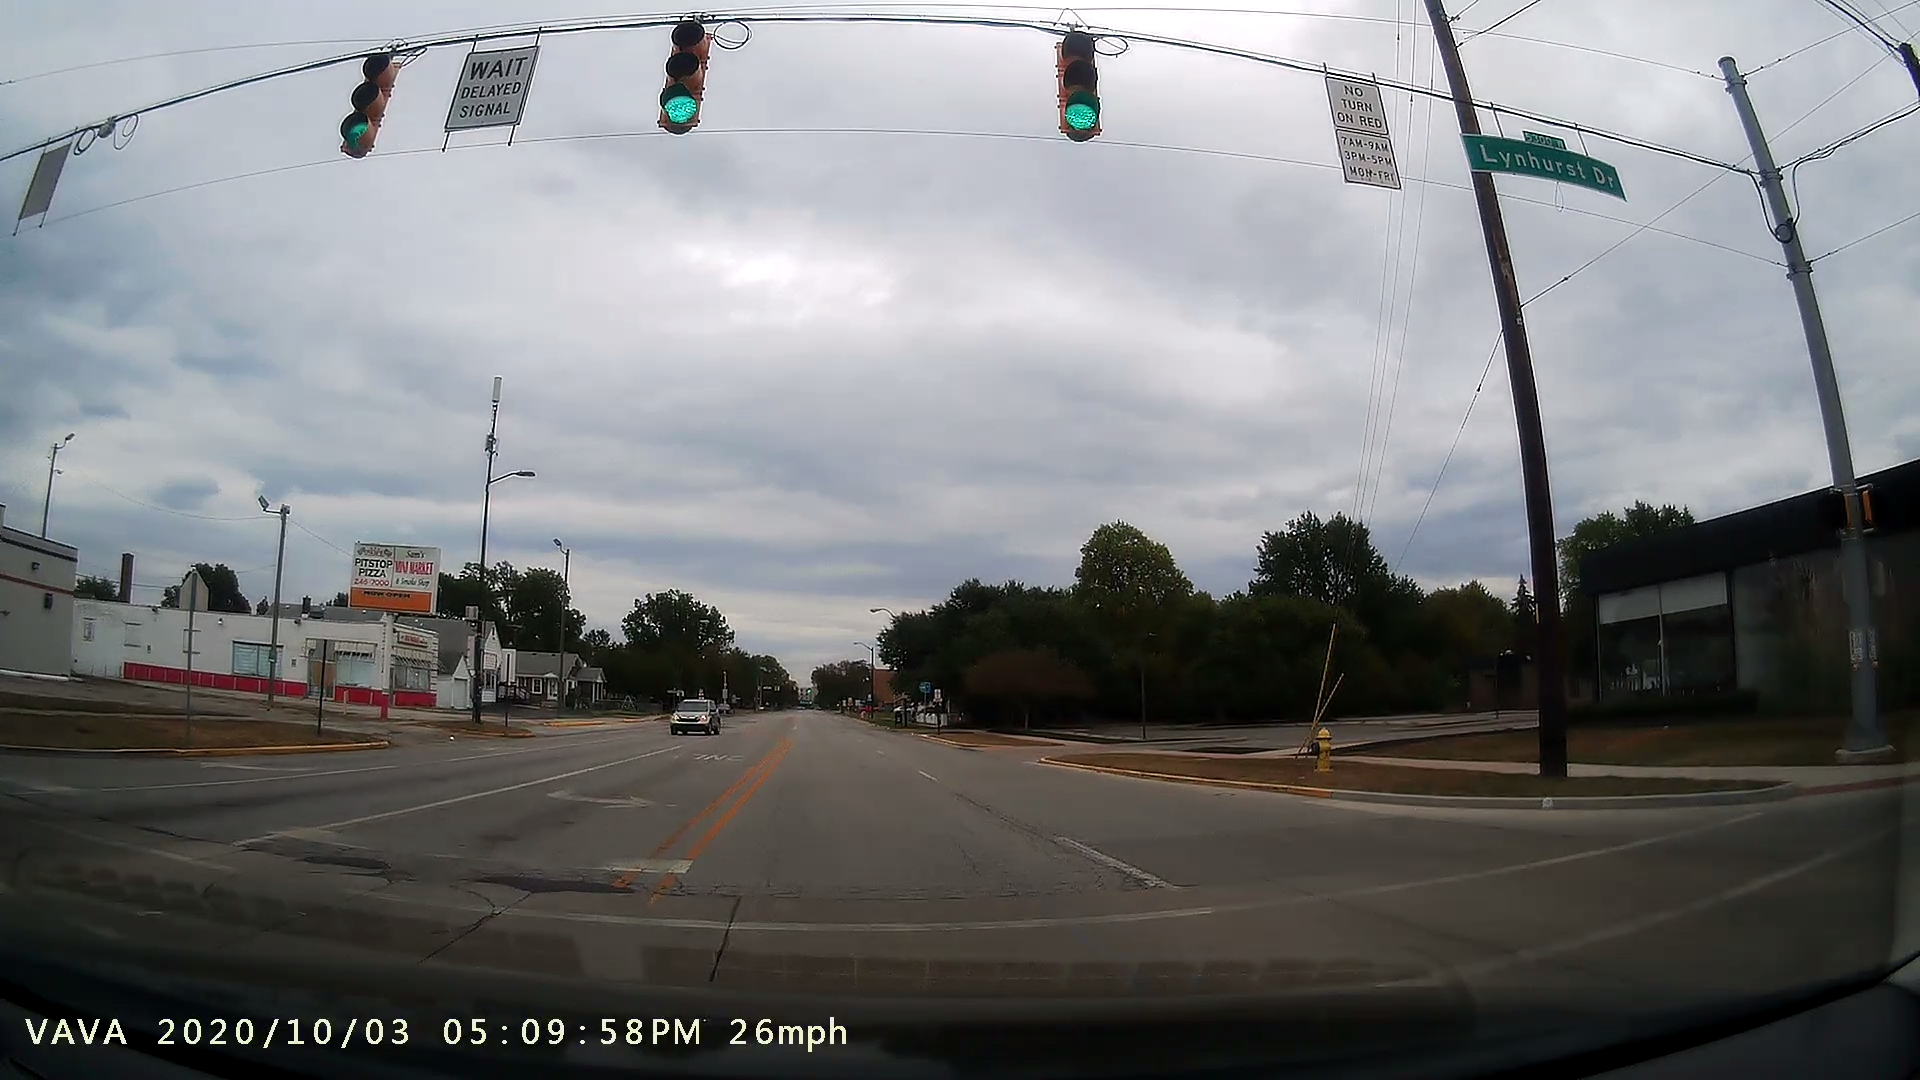fire_hydrant: (1298, 715, 1348, 786)
